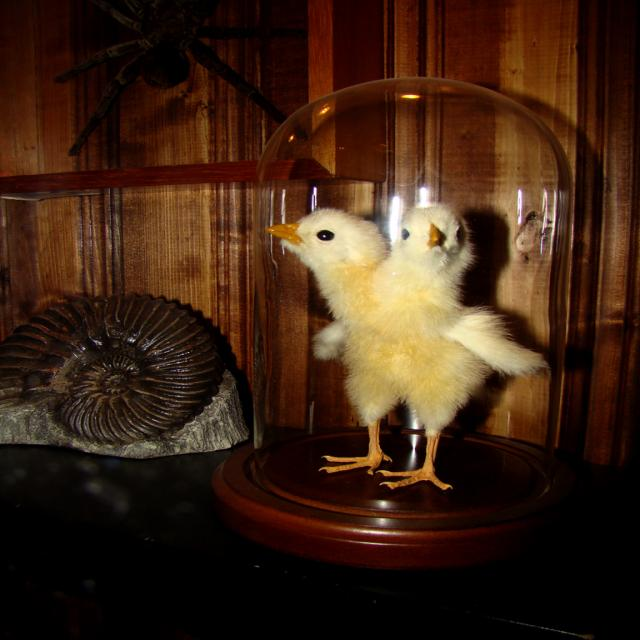Chicken: (289, 193, 540, 516)
